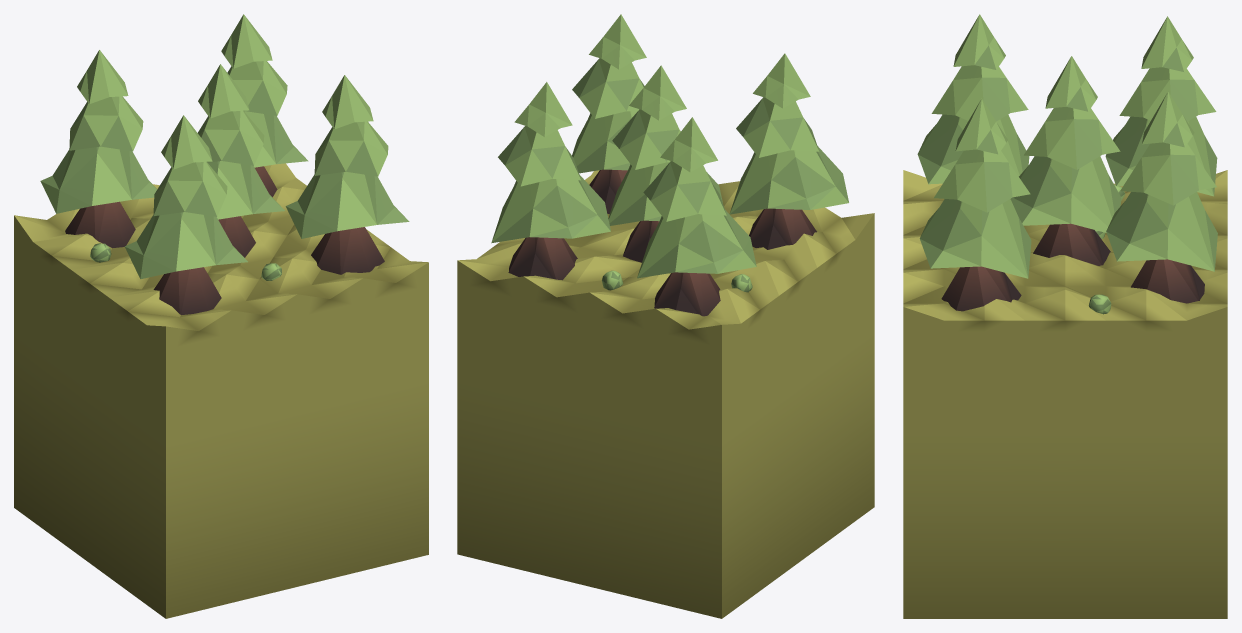
File: foresttreestile.fbx
3 views of the same model, side by side, from view 1: azimuth 30°, elevation 25°; view 2: azimuth 150°, elevation 25°; view 3: azimuth 270°, elevation 25° (orthographic). The views are drawn at different scales.
Visible parts, largest first — view 1: polySurface54; view 2: polySurface54; view 3: polySurface54.
Boxes of the visible parts, bbox=[...] form: polySurface54: bbox=[14, 14, 428, 618]; polySurface54: bbox=[457, 14, 874, 618]; polySurface54: bbox=[903, 14, 1227, 618].
Size of the model in its own units: 79.93 by 135 by 79.9.
